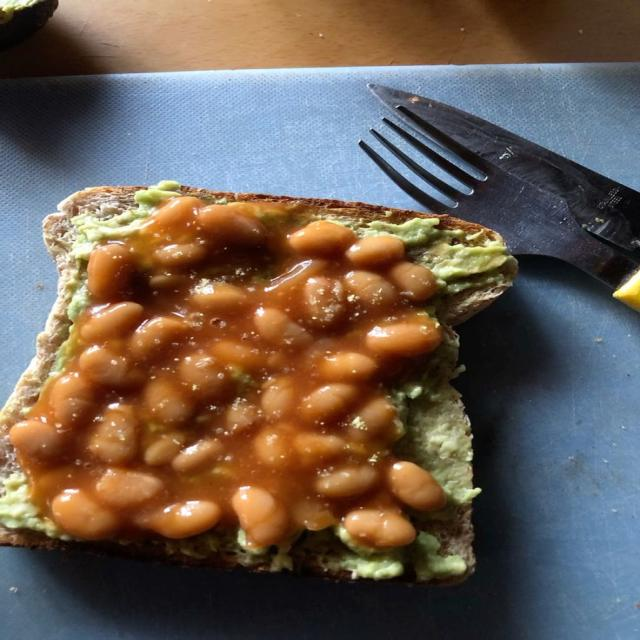sliced_bread: (0, 186, 141, 480), (184, 187, 503, 247), (438, 257, 517, 324), (83, 542, 240, 569), (424, 506, 474, 585), (0, 525, 77, 549), (300, 553, 346, 579)
